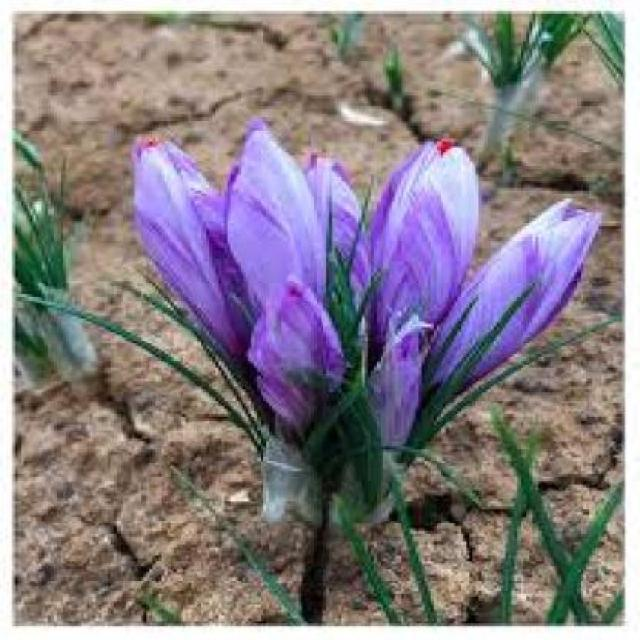Flower: (435, 195, 600, 378), (359, 138, 466, 394), (125, 134, 236, 348)
